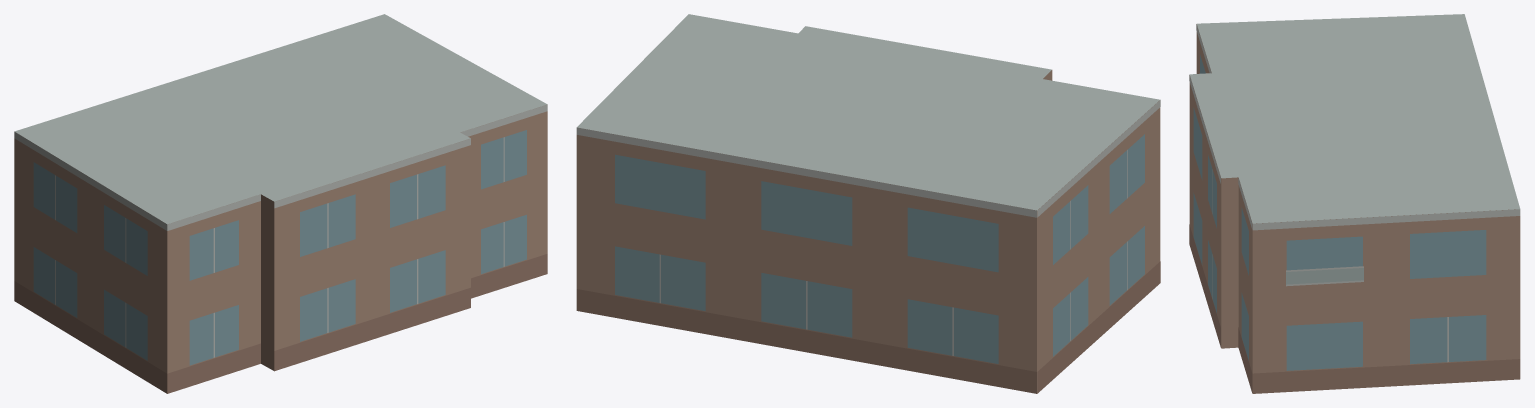
The model's file is survey-upis-32800947.glb.
The picture shows the model from 3 angles, left to right: view 1: azimuth 30°, elevation 25°; view 2: azimuth 150°, elevation 25°; view 3: azimuth 270°, elevation 25°; orthographic projection. The views are drawn at different scales.
Parts seen in each view (by area): view 1: survey-upis-32800947.tmp; view 2: survey-upis-32800947.tmp; view 3: survey-upis-32800947.tmp.
Part boxes in pixels (x1,y1,x2,y2): survey-upis-32800947.tmp: [14, 14, 547, 393]; survey-upis-32800947.tmp: [576, 14, 1160, 393]; survey-upis-32800947.tmp: [1189, 14, 1520, 393].
Size of the model in its own units: 16.12 by 6.1 by 10.75.
